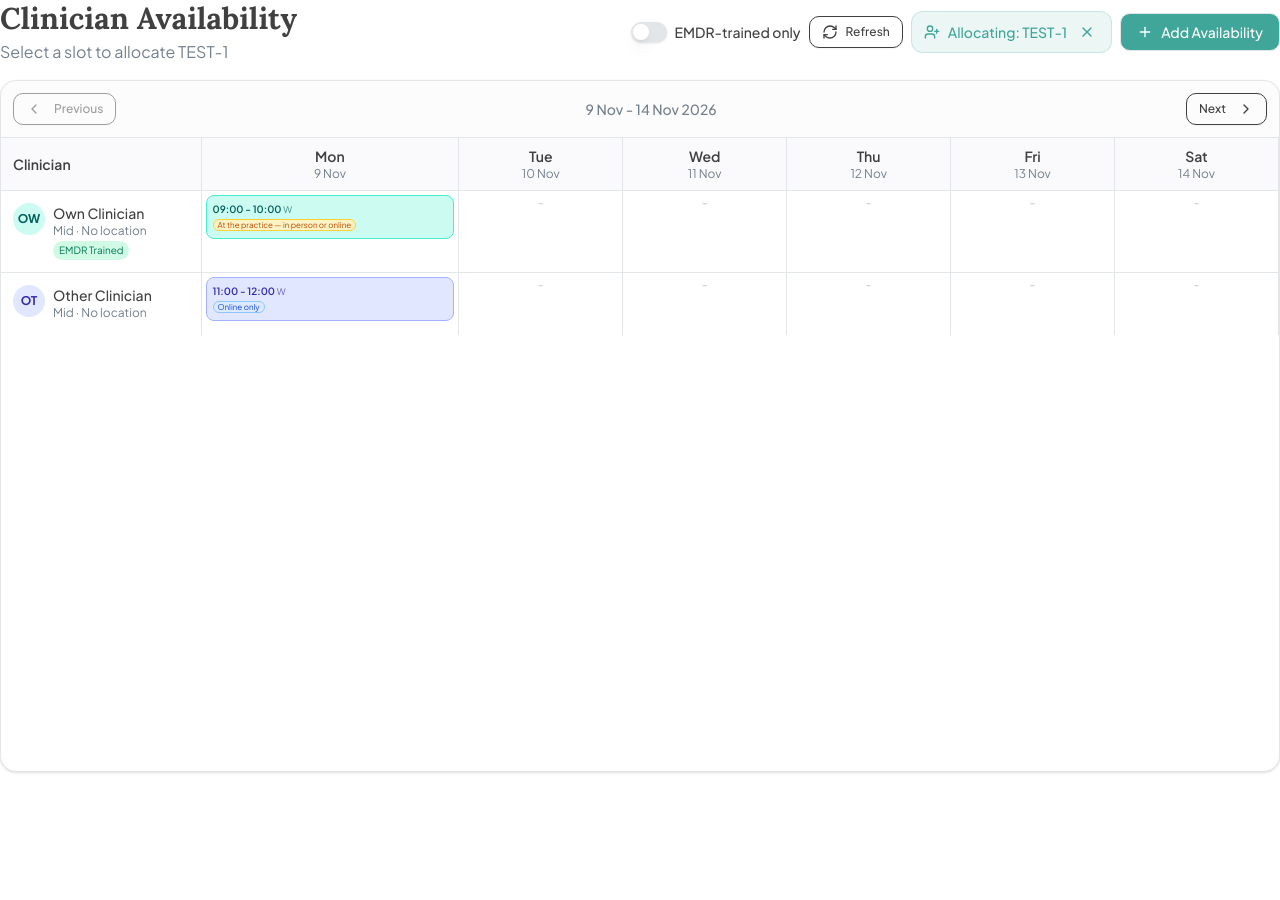
Test: lets a CY&A at-the-practice slot be allocated in the selected appointment mode
Later steps or results of the test are not shown.
Click the text "09:00 - 10:00 W At the practice — in person or online": (330, 217) x1=206 y1=195 x2=454 y2=239
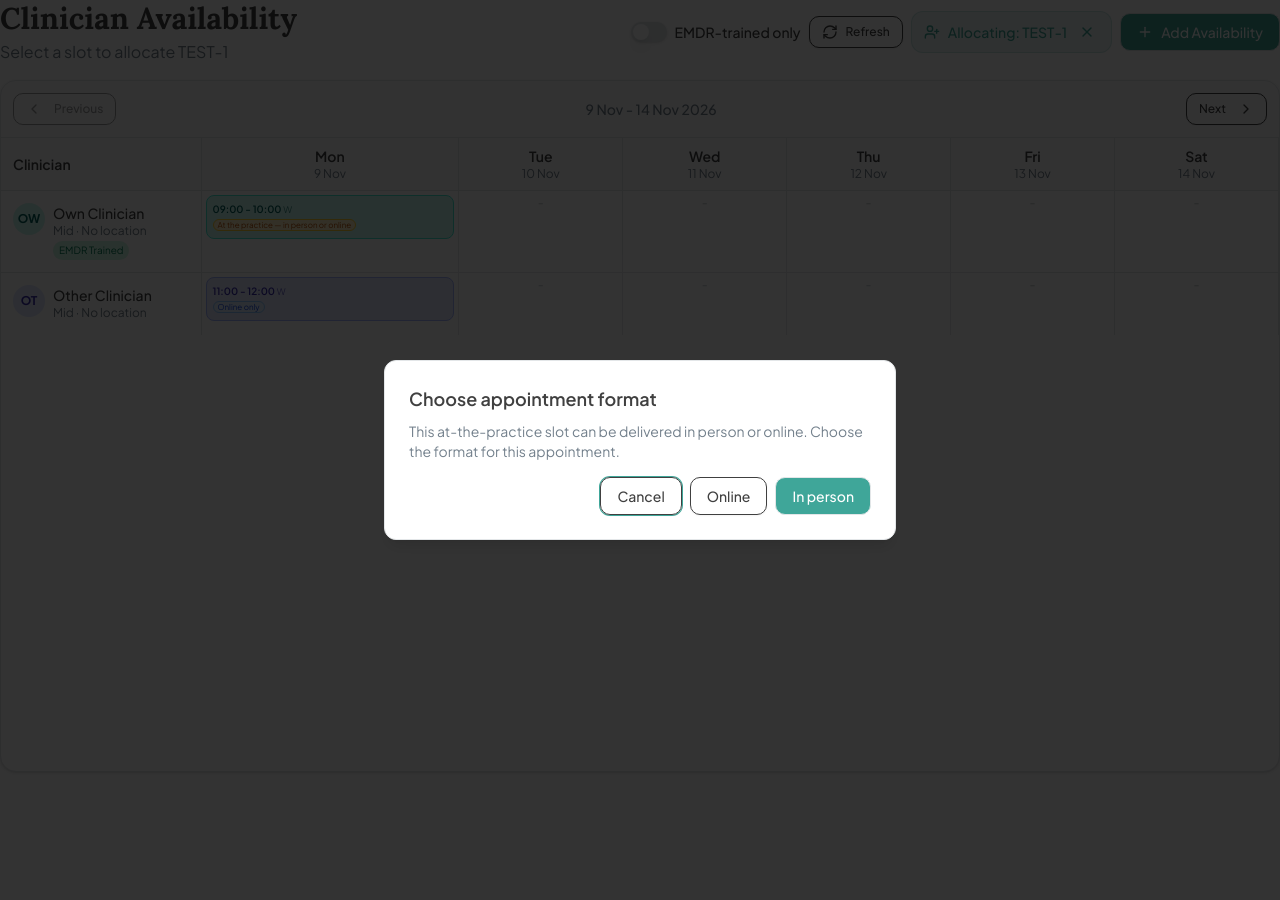
Expected: the heading "Choose appointment format" is shown, x1=409 y1=387 x2=657 y2=410
